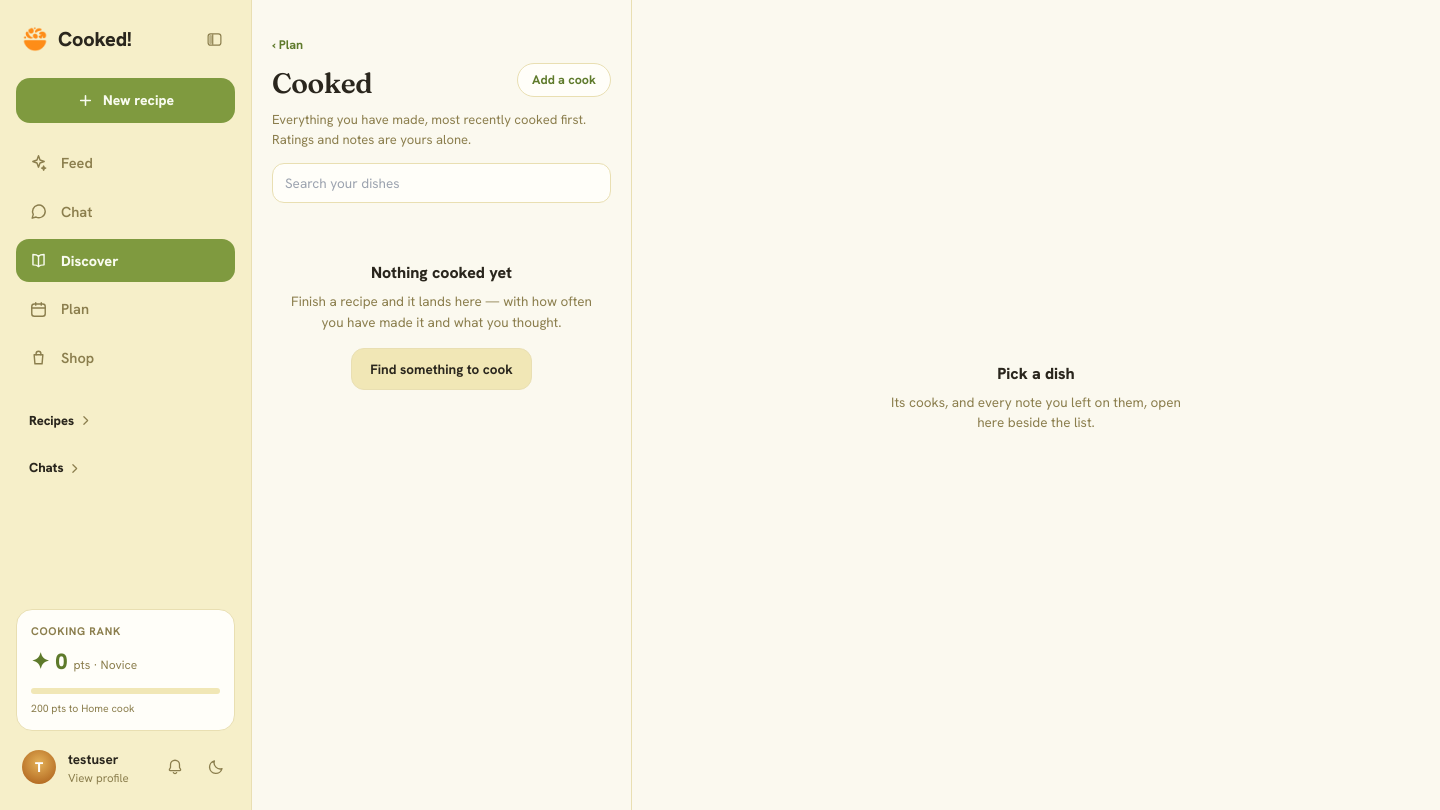
Test: Add a cook › shows the server’s own sentence when the date is refused
What coordinates should you click on to do the following:
click the button "Add a cook"
I would click on:
 (564, 80)
Its box is [517, 63, 611, 97].
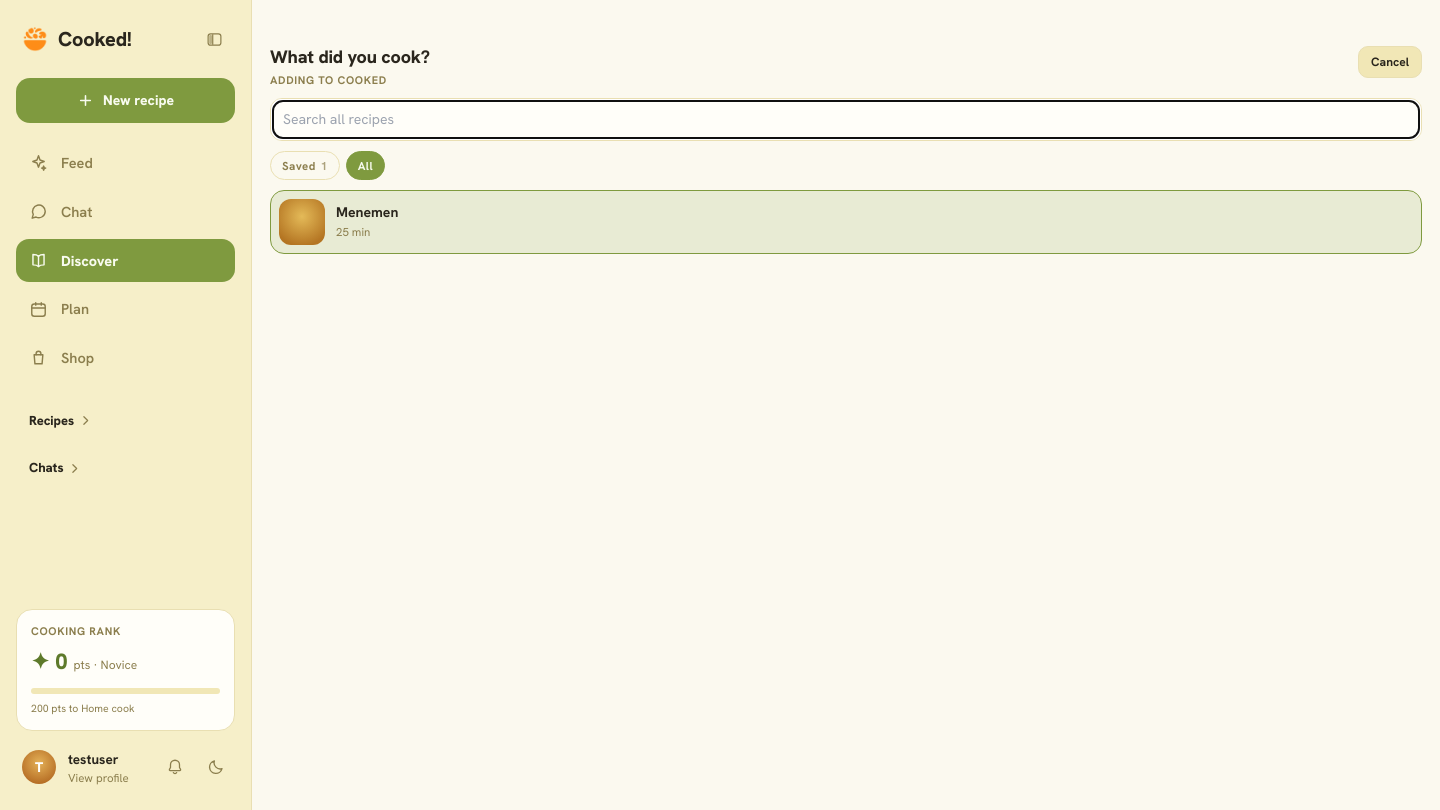
What coordinates should you click on to do the following:
click the tab "All"
I would click on:
 (365, 166)
Its box is [346, 151, 385, 180].
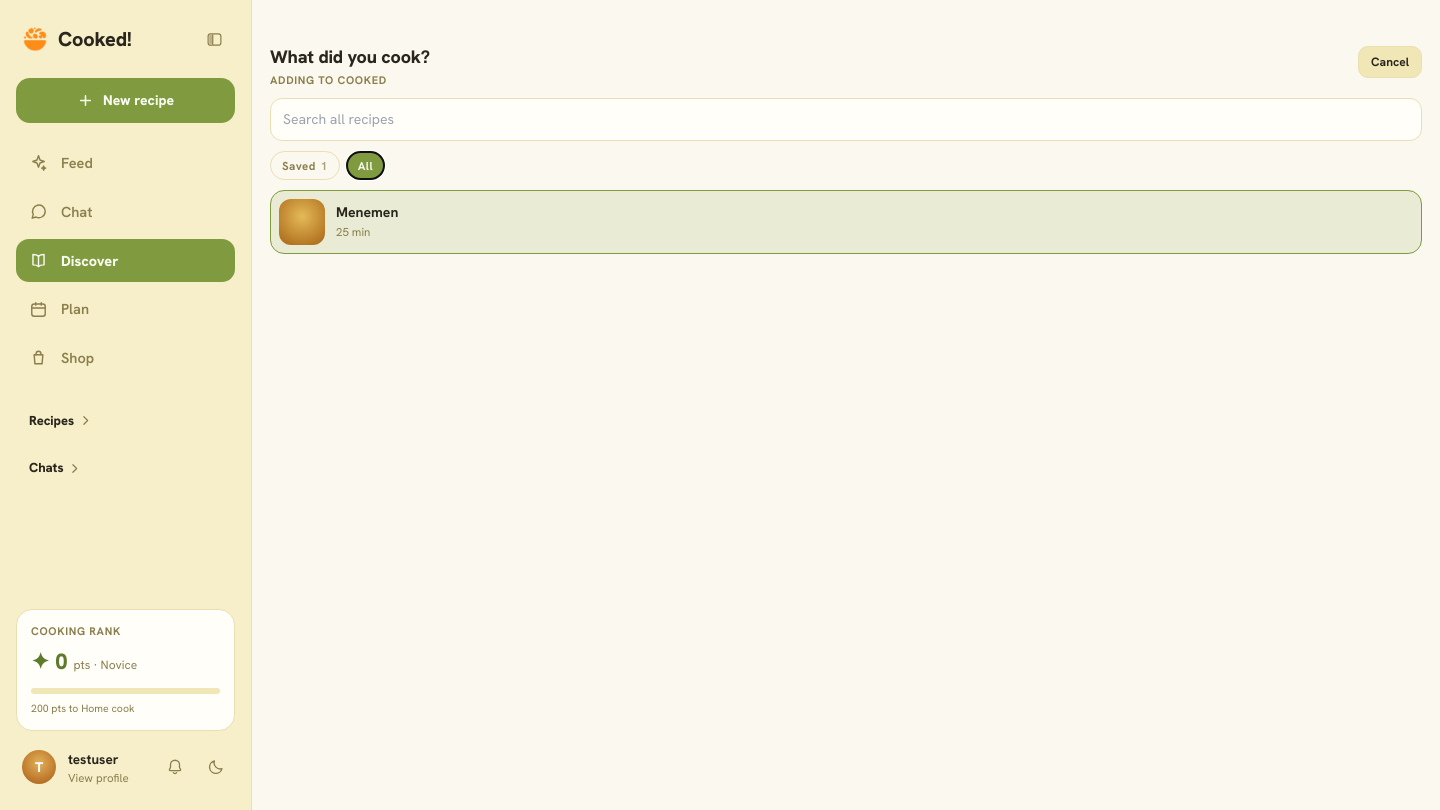
What coordinates should you click on to do the following:
click the button "Menemen 25 min"
I would click on:
 (302, 222)
Its box is [270, 190, 1422, 254].
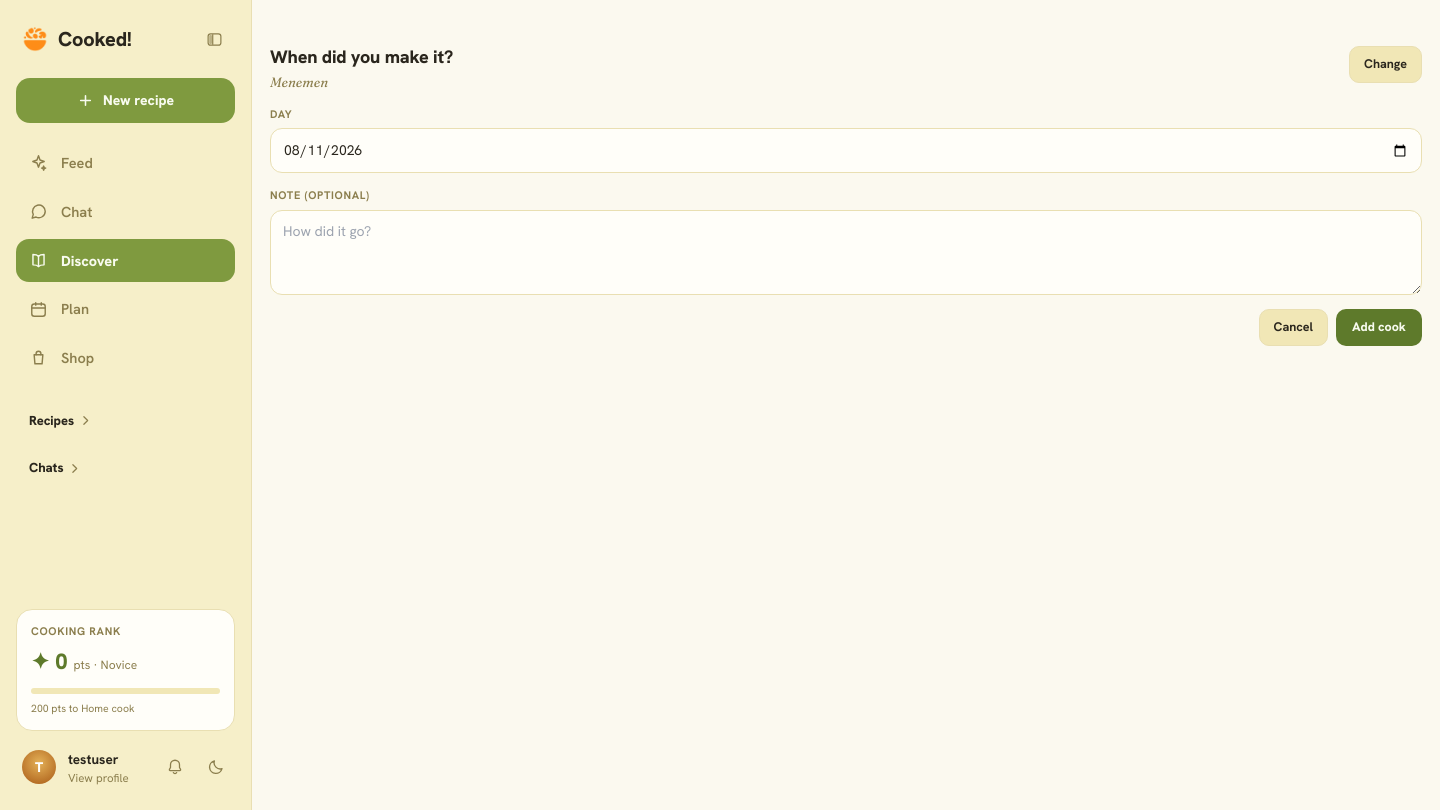
What coordinates should you click on to do the following:
click the button "Add cook"
I would click on:
 (1379, 327)
Its box is [1336, 309, 1422, 346].
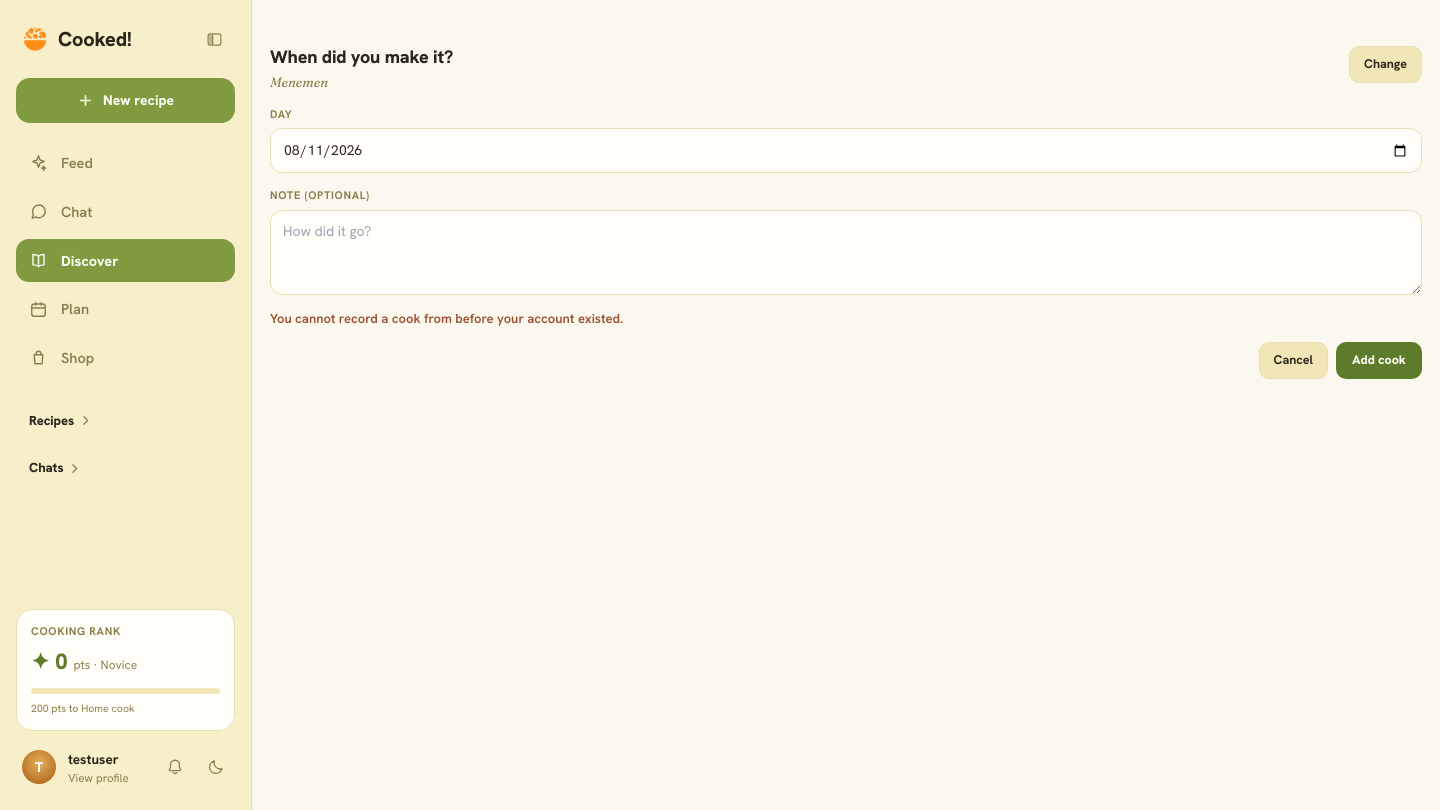
Check: the button "Add cook" is shown, box [1336, 342, 1422, 379]
Check: the message reads "You cannot record a cook from before your account existed.", box [270, 310, 623, 327]
